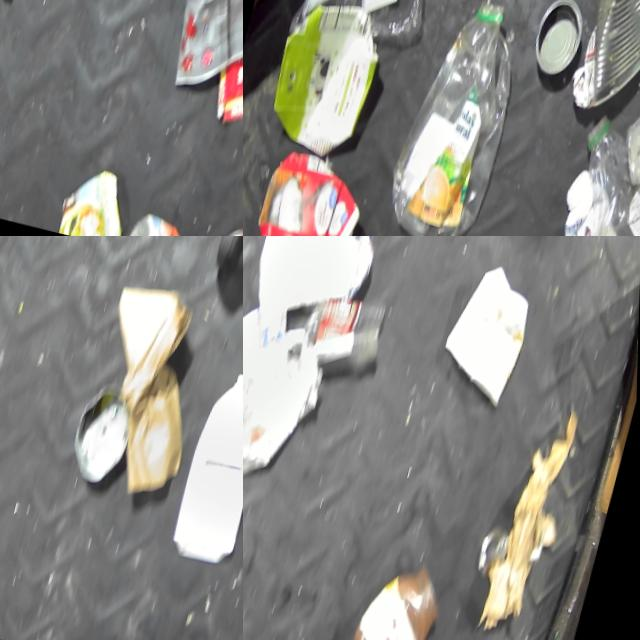can: (566, 0, 640, 125), (162, 0, 243, 98), (527, 0, 593, 81), (126, 201, 208, 236)
milk_jug: (243, 309, 337, 498), (171, 363, 243, 569), (243, 288, 294, 417)
non_white_jug: (261, 0, 392, 164), (249, 143, 375, 236)
plastic_bottle: (376, 0, 539, 236), (543, 109, 640, 236)
